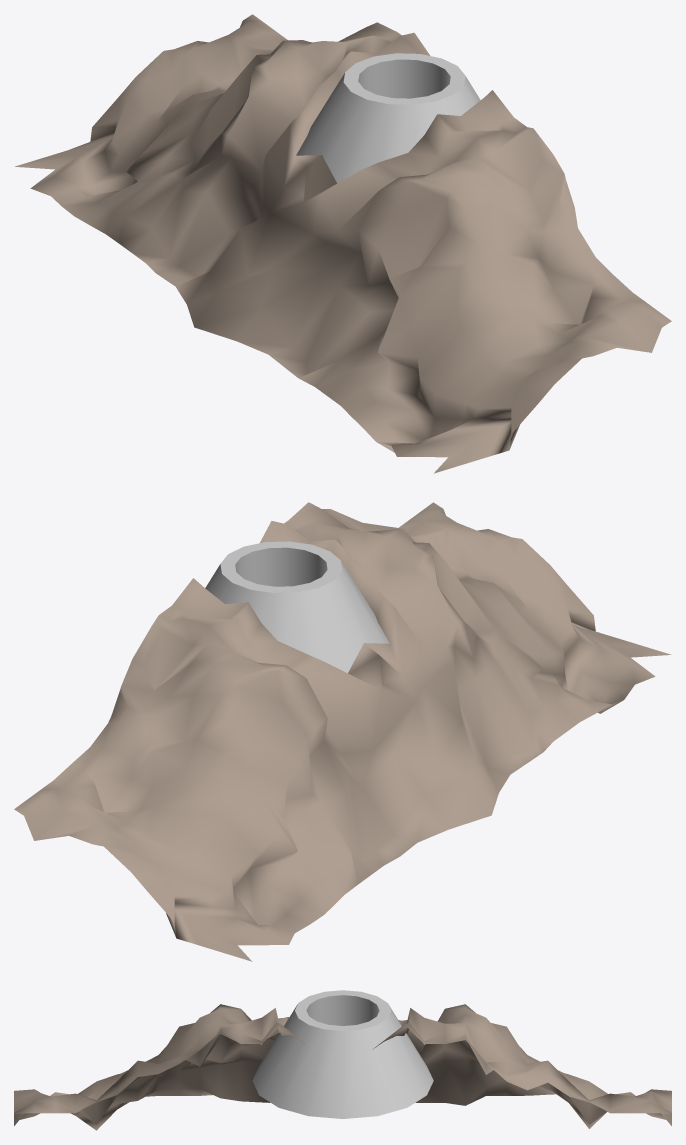
File: terrain coloured.fbx
3 renders of one model, top to bottom at view 1: azimuth 30°, elevation 25°; view 2: azimuth 150°, elevation 25°; view 3: azimuth 270°, elevation 25°, orthographic. The views are drawn at different scales.
Parts seen in each view (by area): view 1: pasted__pasted__pasted__pasted__pasted__pPlane1, pasted__pasted__pasted__pPipe1; view 2: pasted__pasted__pasted__pasted__pasted__pPlane1, pasted__pasted__pasted__pPipe1; view 3: pasted__pasted__pasted__pasted__pasted__pPlane1, pasted__pasted__pasted__pPipe1.
Part boxes in pixels (x1,y1,x2,y2): pasted__pasted__pasted__pasted__pasted__pPlane1: [15, 14, 671, 473]; pasted__pasted__pasted__pPipe1: [296, 53, 480, 192]; pasted__pasted__pasted__pasted__pasted__pPlane1: [14, 502, 671, 961]; pasted__pasted__pasted__pPipe1: [205, 541, 389, 673]; pasted__pasted__pasted__pasted__pasted__pPlane1: [14, 1004, 671, 1130]; pasted__pasted__pasted__pPipe1: [252, 990, 433, 1118].
Size of the model in its own units: 43.51 by 30.54 by 102.
